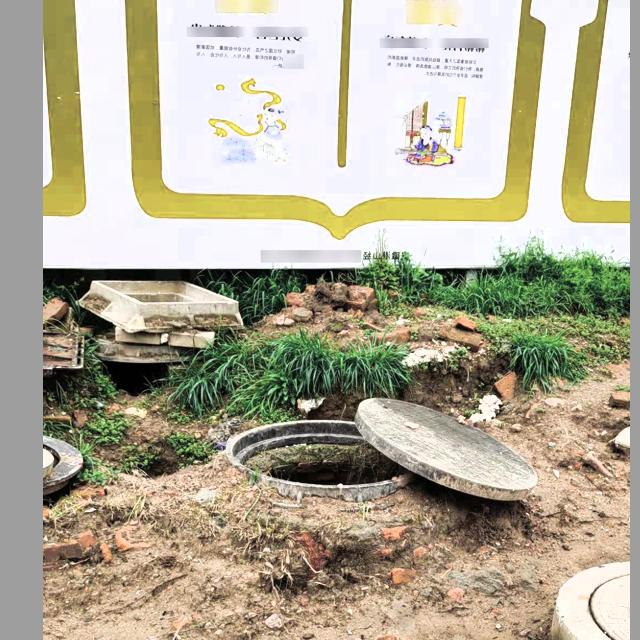uncovered: (198, 382, 552, 506)
